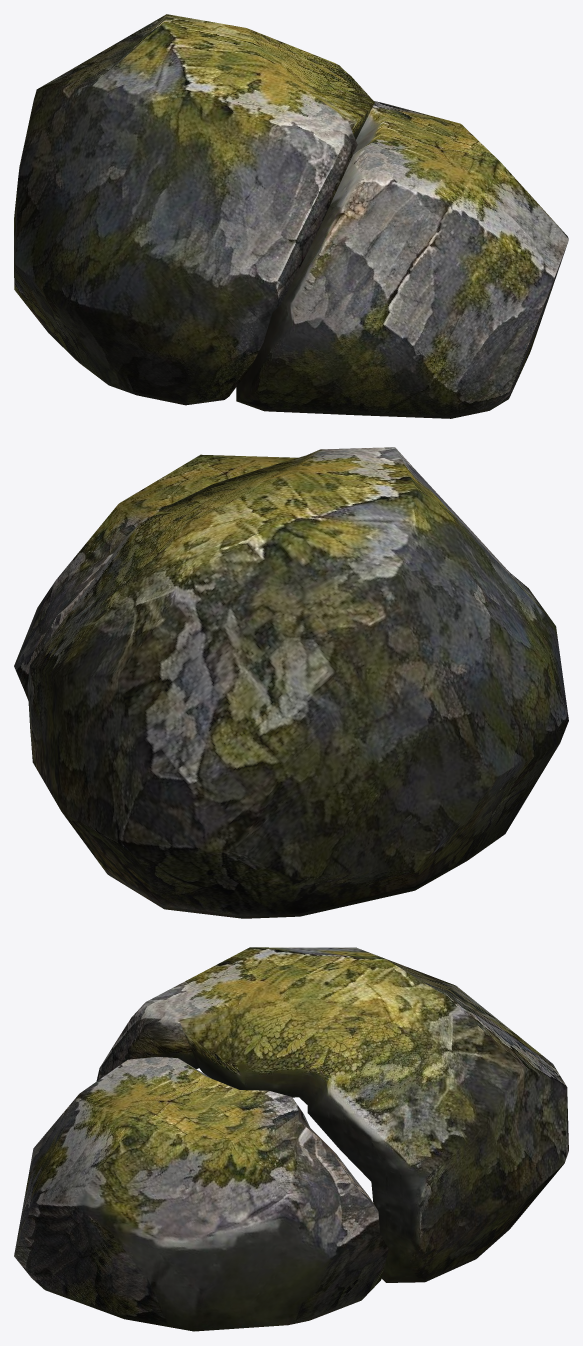
The model's file is act1-a03-4-moss-rock.glb.
3 renders of one model, top to bottom at view 1: azimuth 30°, elevation 25°; view 2: azimuth 150°, elevation 25°; view 3: azimuth 270°, elevation 25°, orthographic. The views are drawn at different scales.
Parts seen in each view (by area): view 1: act1-a03-4-moss-rock; view 2: act1-a03-4-moss-rock; view 3: act1-a03-4-moss-rock.
Part boxes in pixels (x1=…): act1-a03-4-moss-rock: x1=14, y1=14, x2=568, y2=418; act1-a03-4-moss-rock: x1=14, y1=447, x2=568, y2=918; act1-a03-4-moss-rock: x1=14, y1=947, x2=568, y2=1331.
Size of the model in its own units: 2.63 by 1.6 by 3.12.
1 material, 1 textured.
